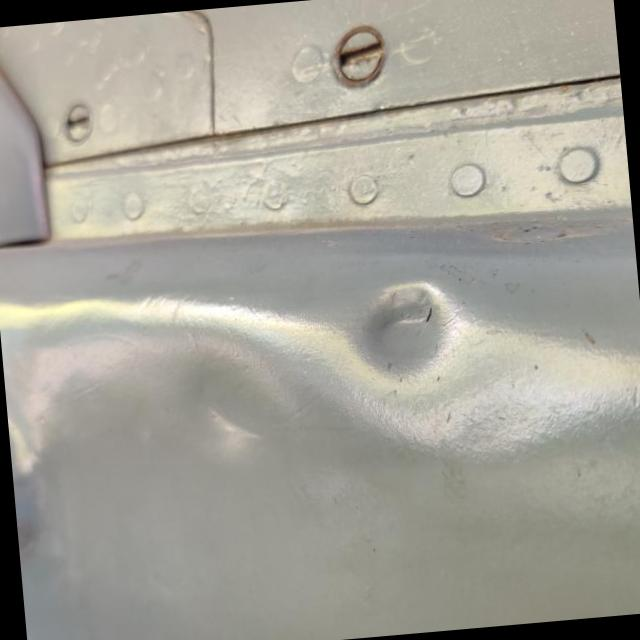Dent: (318, 281, 471, 382), (165, 365, 289, 464)
